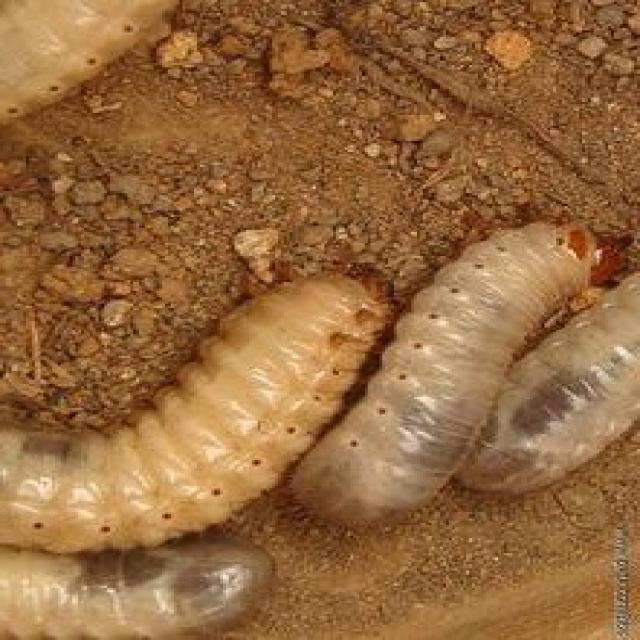grub: (2, 248, 405, 561), (294, 219, 607, 542), (1, 526, 285, 639), (3, 1, 226, 140)
